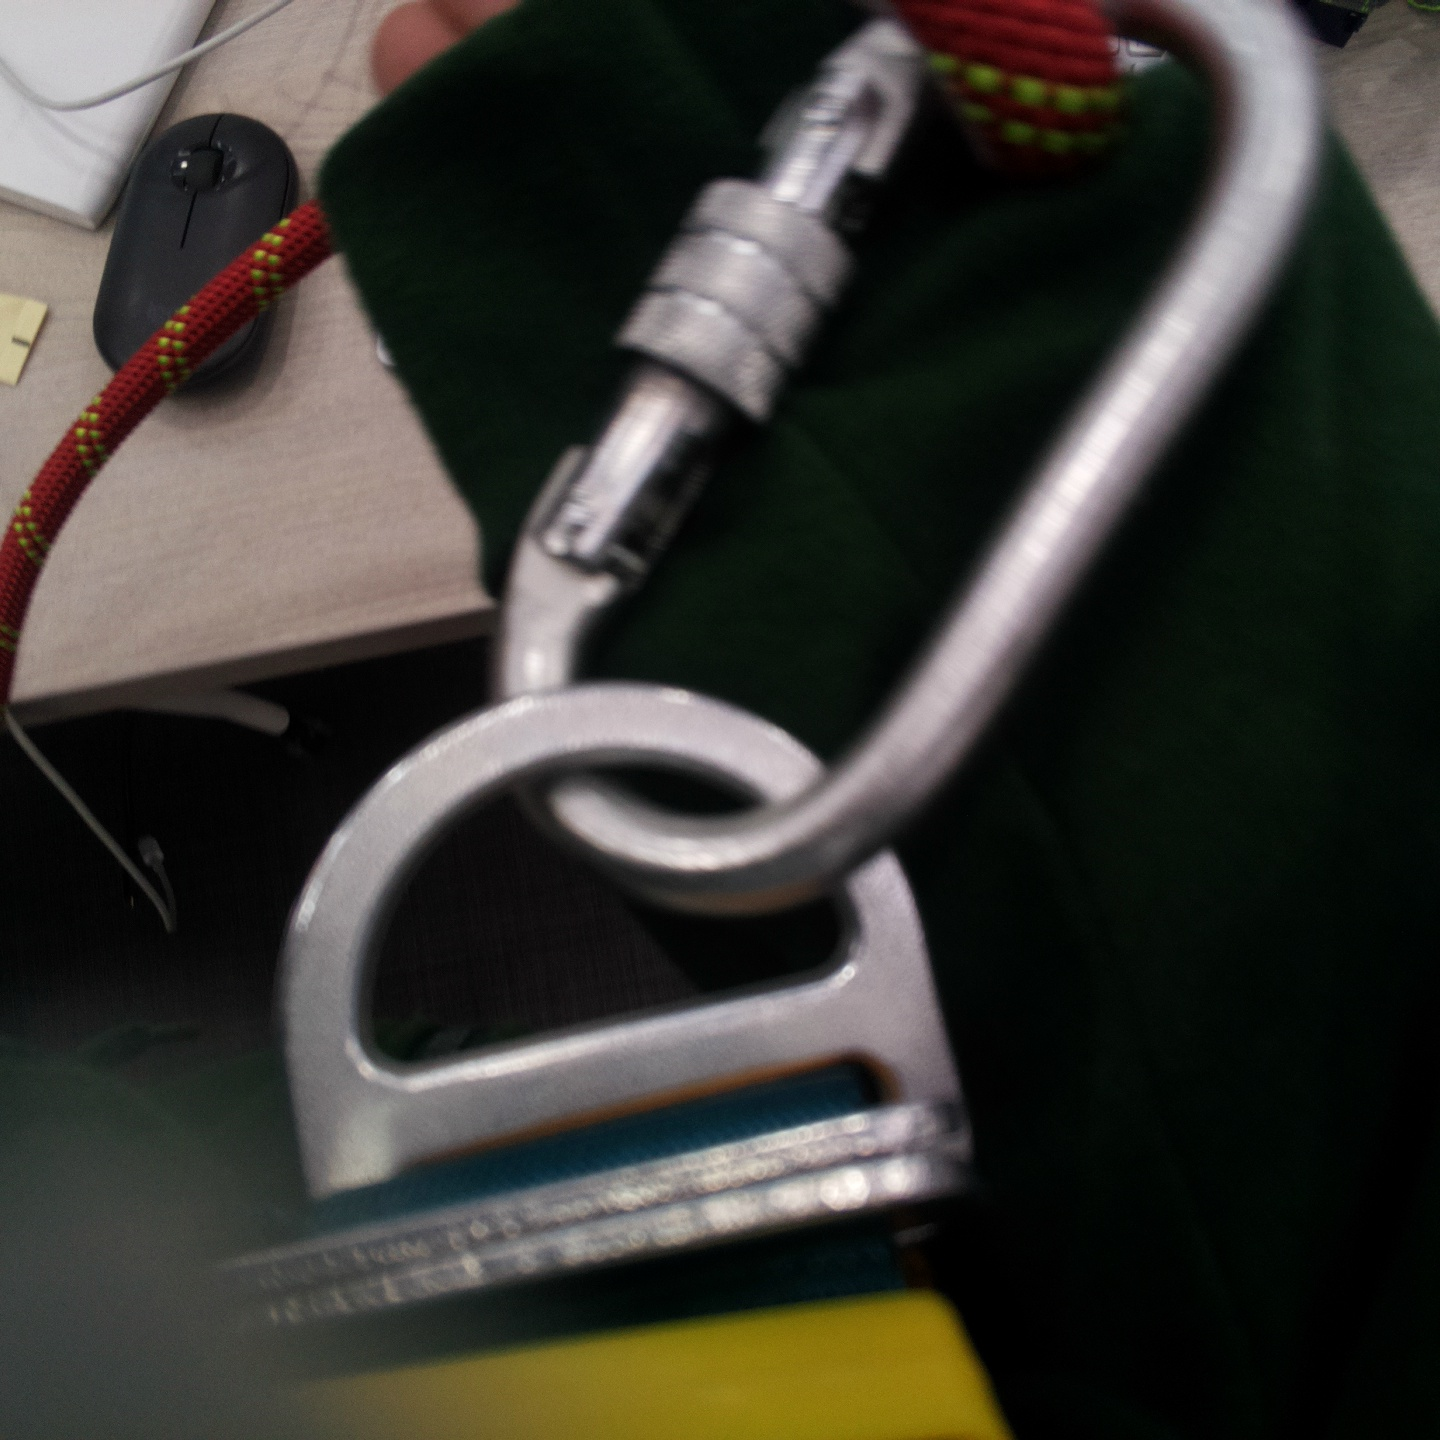SUCCESS: (568, 173, 1269, 680)
